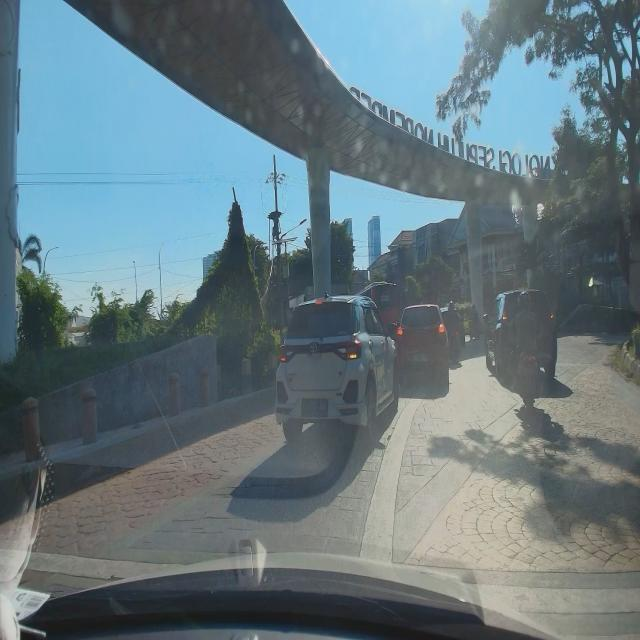car: (274, 291, 400, 446), (394, 303, 451, 391)
license-plate: (302, 400, 327, 415), (412, 353, 429, 362)
